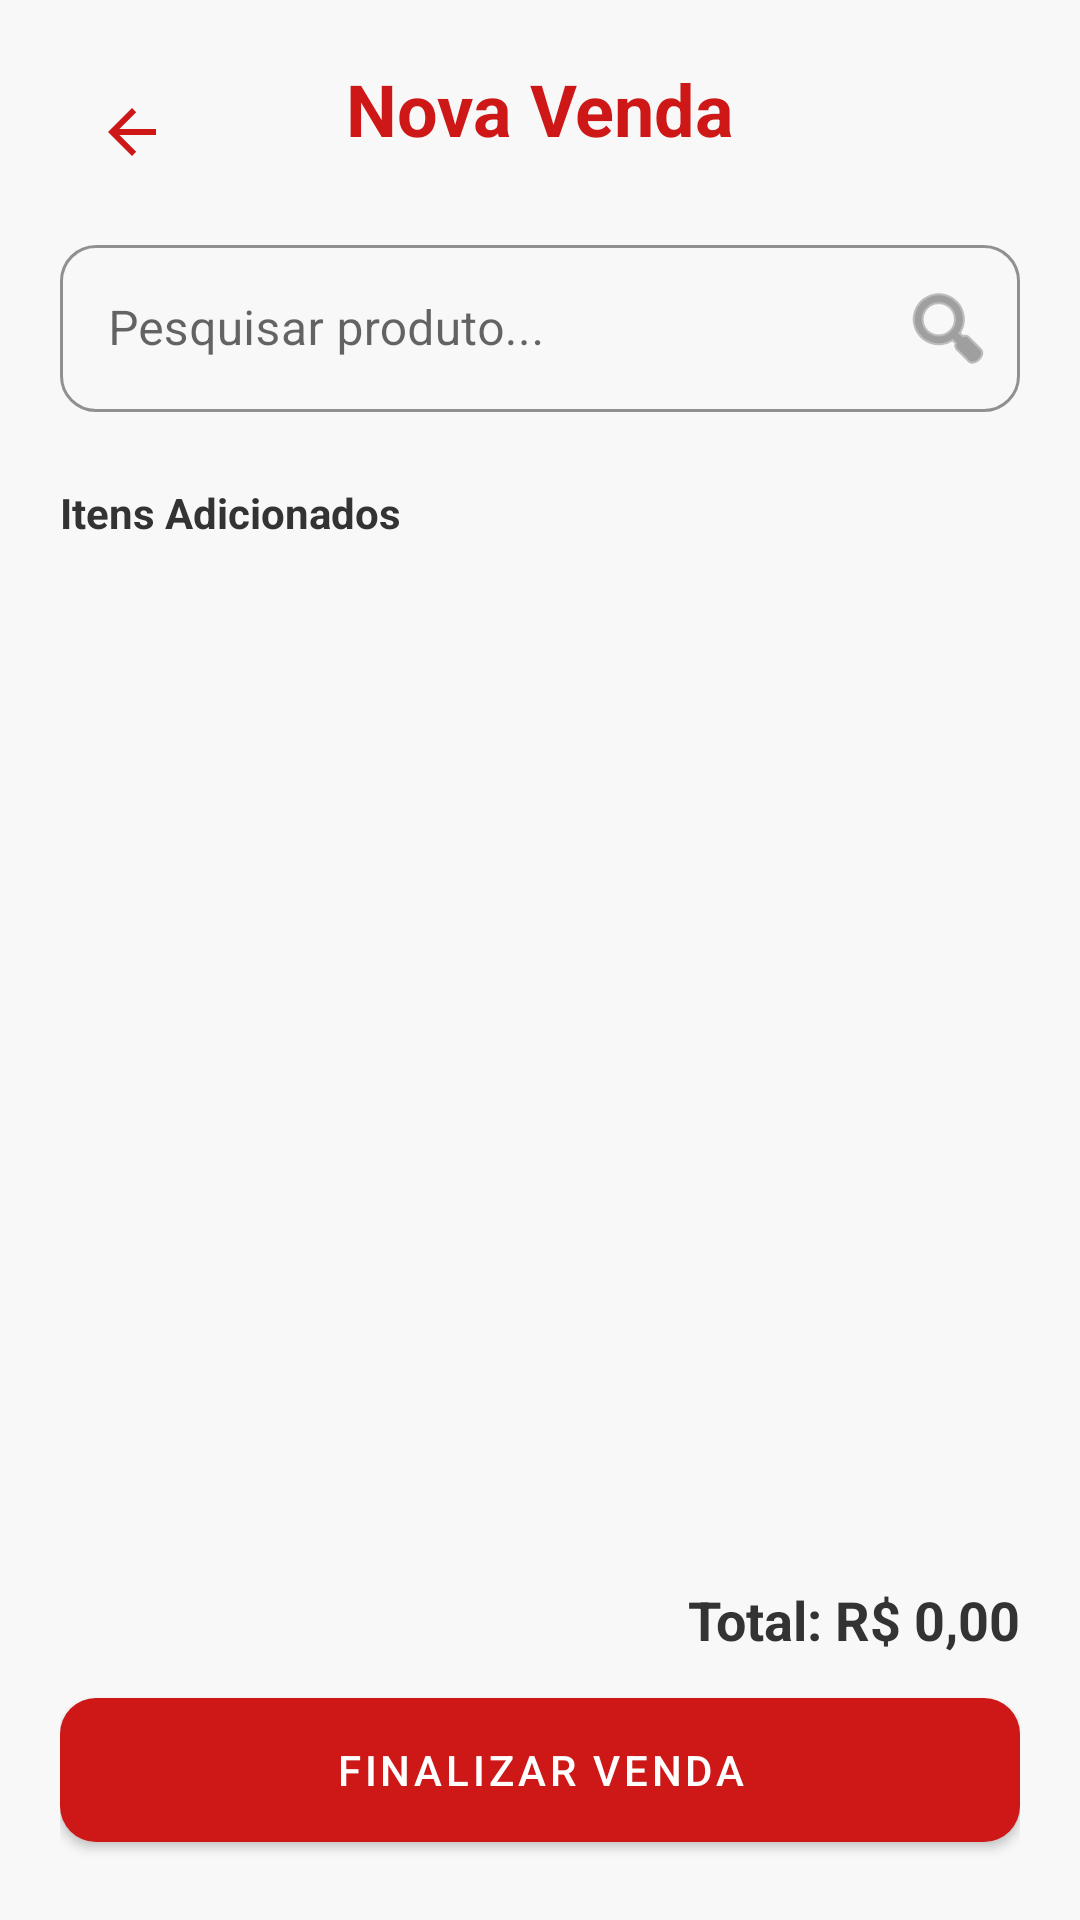

Named icons in this screenshot (1080px x 1920px) and their bounding boxes, (x1, y1, x2, y2):
ab back: (108, 108, 156, 156)
